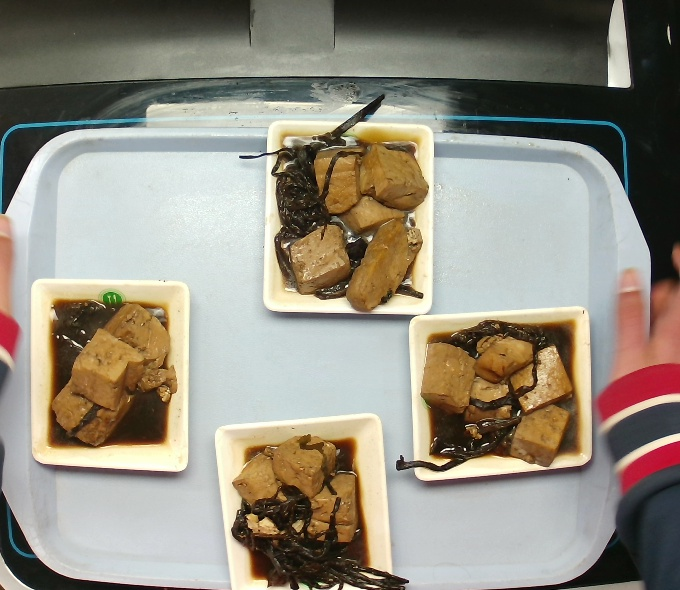wcq-CaiLuDouFu: (261, 114, 426, 317), (414, 311, 585, 482), (43, 285, 180, 463), (233, 428, 386, 584)
